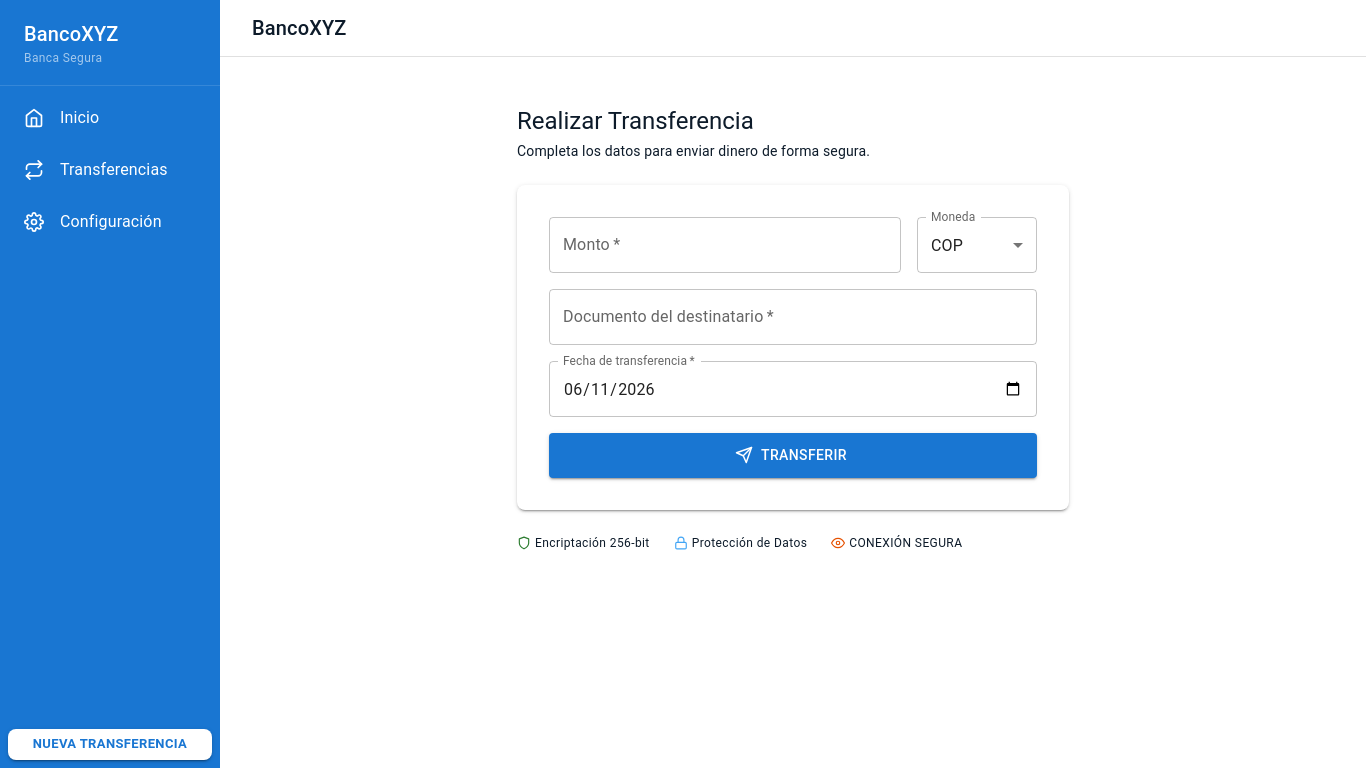
Test: TransferPage — validaciones del formulario › muestra error si monto es 0
This screenshot has width=1366, height=768.
Type "0" into the number field labelled "Monto *".
click(725, 245); type("0")  # box [549,217,901,273]
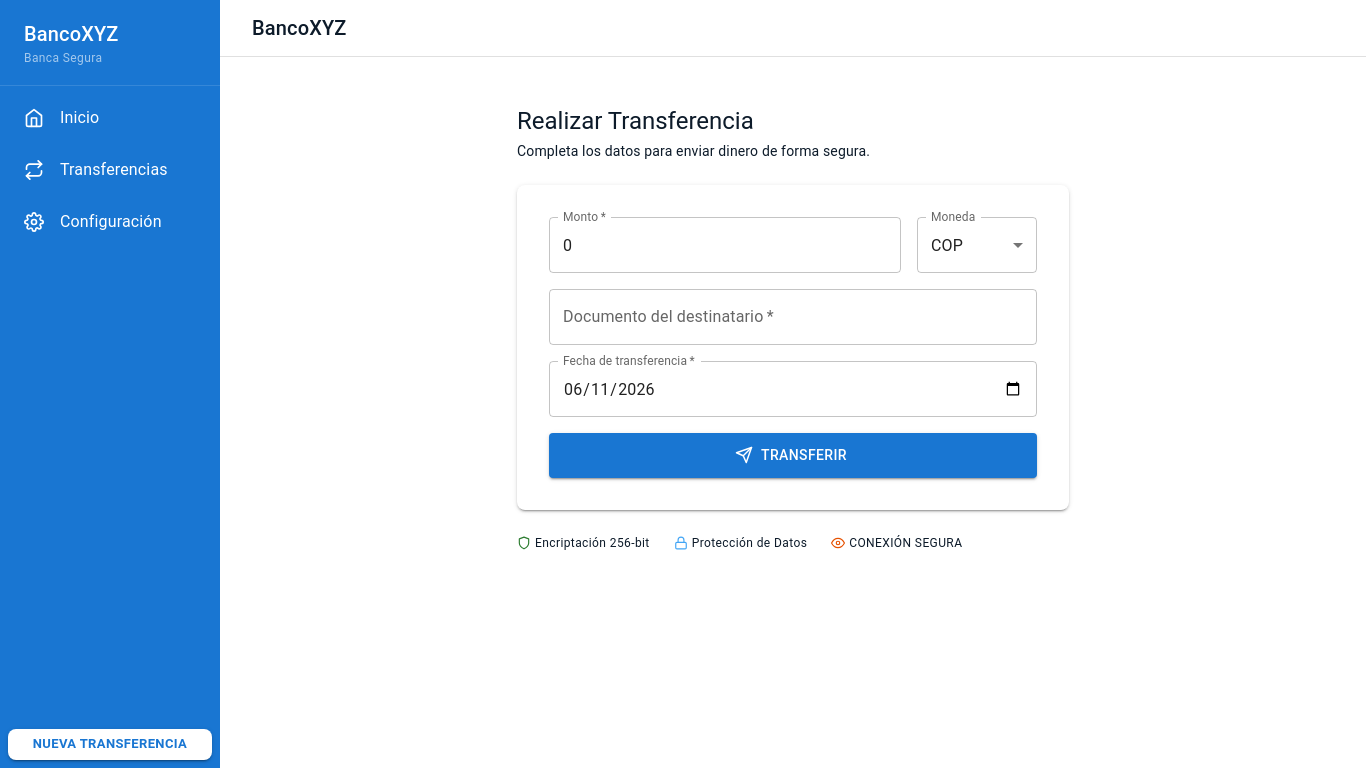
Click the button with test id "btn-submit-transfer".
click(793, 455)  # box [549,433,1037,478]
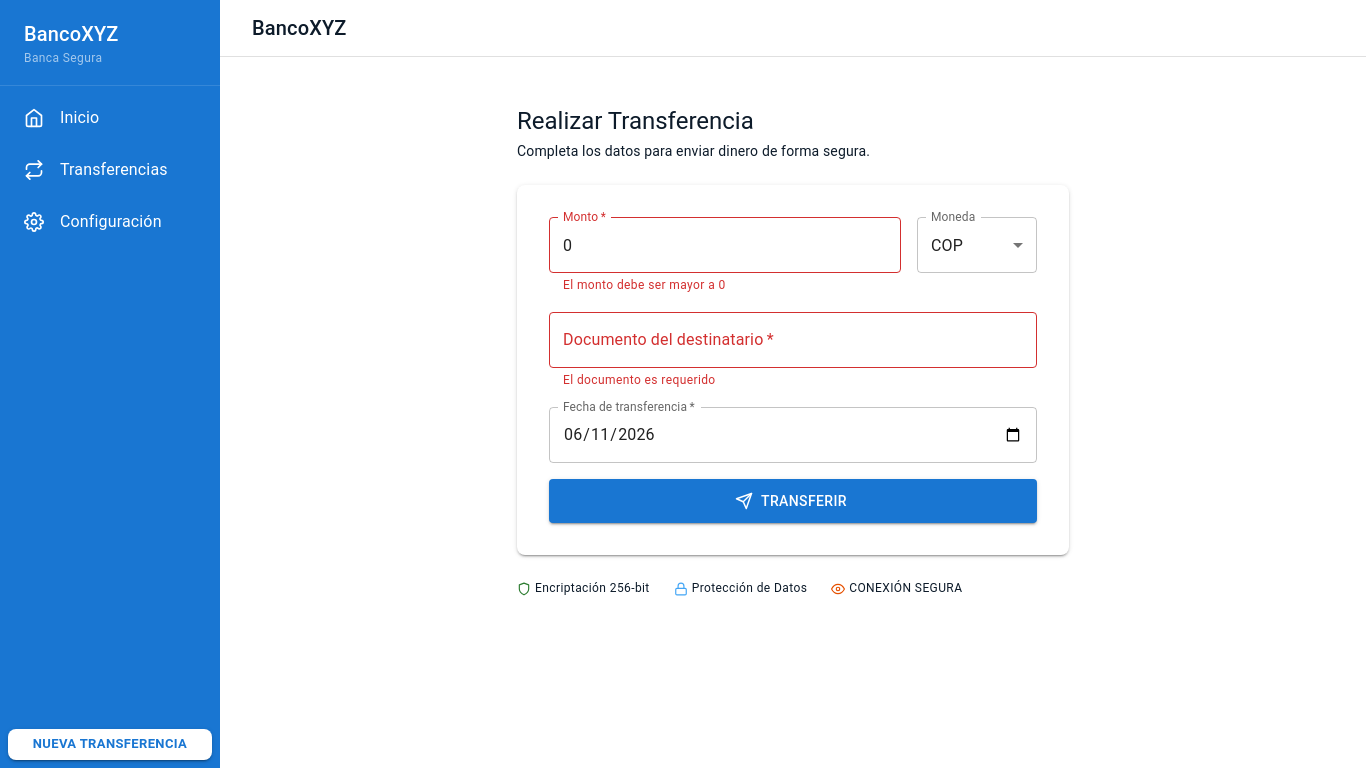
Expected: the text "El monto debe ser mayor a 0" is shown, [563,278,726,292]
